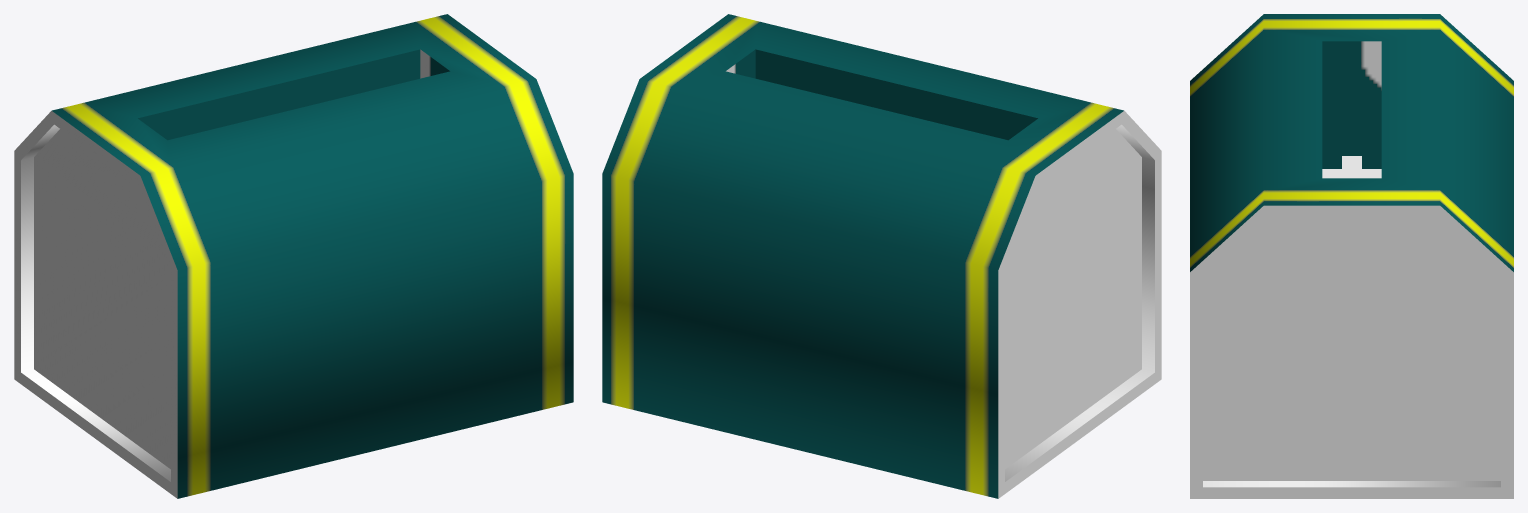
File: BateriaSocket.fbx
3 renders of one model, left to right at view 1: azimuth 30°, elevation 25°; view 2: azimuth 150°, elevation 25°; view 3: azimuth 270°, elevation 25°, orthographic.
Visible parts, largest first — view 1: Cube; view 2: Cube; view 3: Cube.
Part boxes in pixels (left/top/right/bottom): Cube: left=14, top=14, right=573, bottom=498; Cube: left=602, top=14, right=1161, bottom=498; Cube: left=1190, top=14, right=1513, bottom=498.
Bounding box in the file's own units: 280 × 200 × 200.
Materials: 1 (1 with a texture image).
